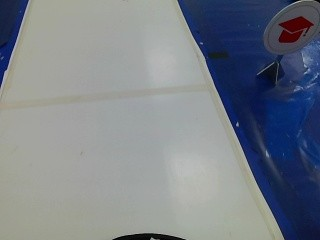school: (259, 0, 318, 54)
